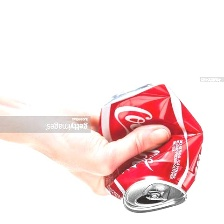can: (95, 79, 210, 221)
